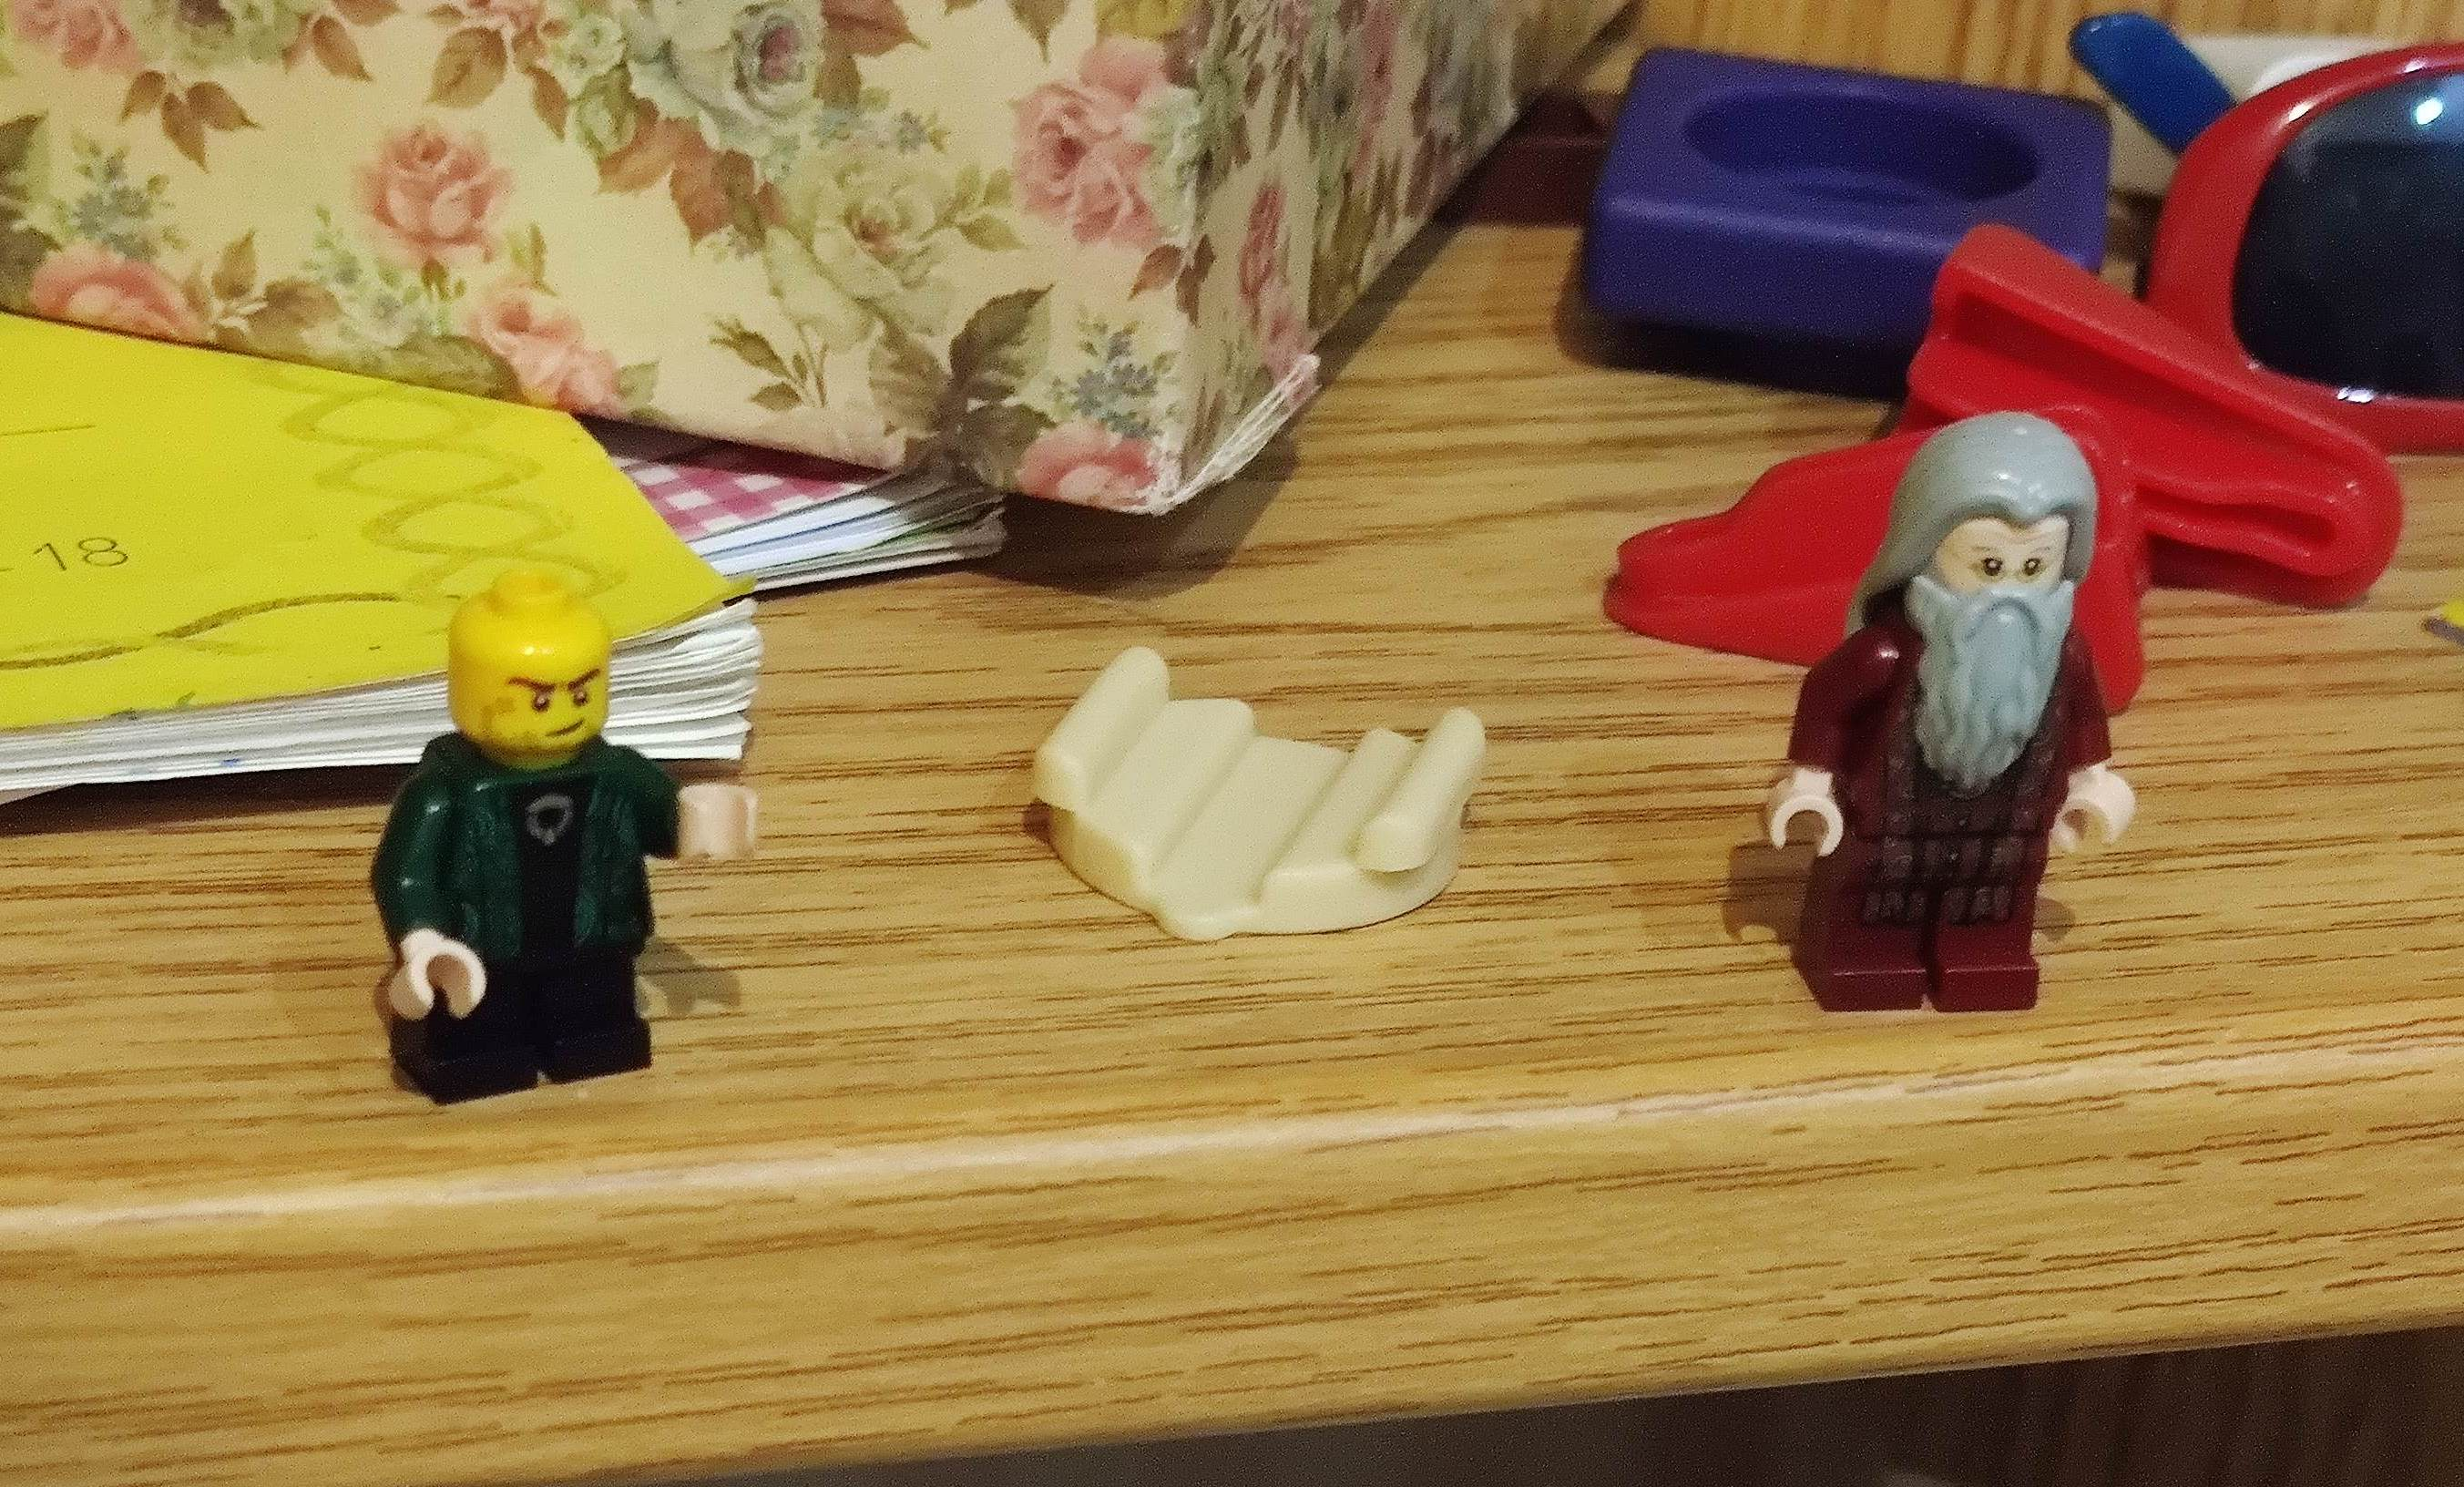lego: (1753, 405, 2158, 1029), (366, 574, 759, 1102)
